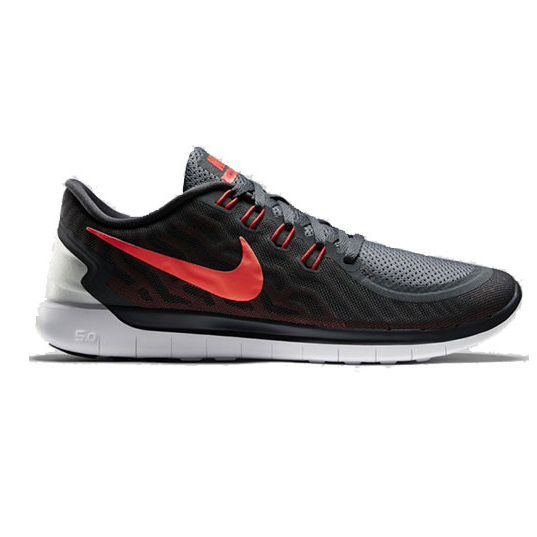Nike: (79, 194, 276, 323)
